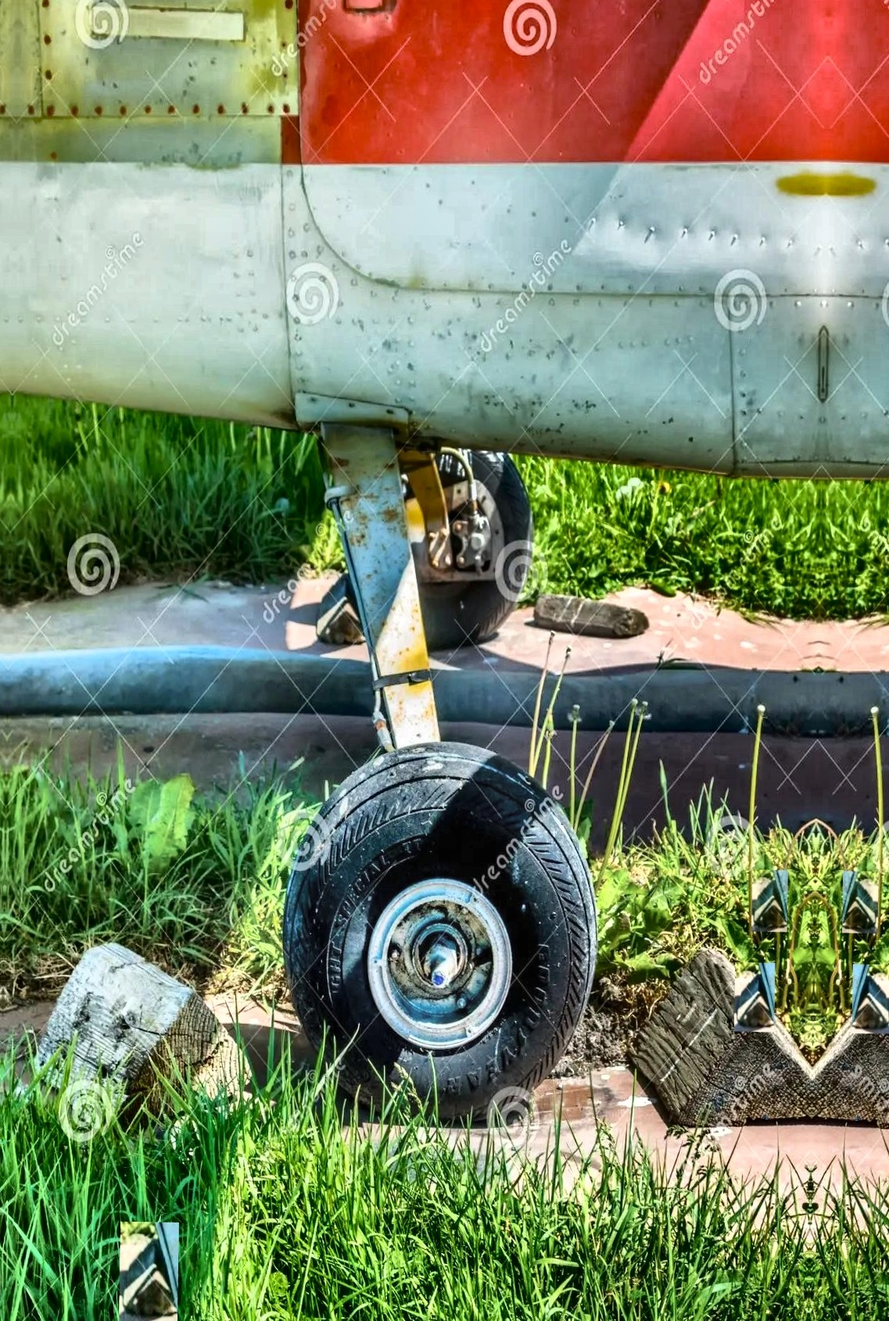chock: (22, 920, 255, 1140), (623, 929, 815, 1144), (812, 932, 889, 1147), (119, 1222, 179, 1321), (313, 558, 368, 652), (734, 962, 775, 1032), (853, 964, 889, 1034), (751, 870, 788, 932), (843, 871, 879, 934)
wheel: (278, 742, 596, 1118), (413, 446, 531, 644)
